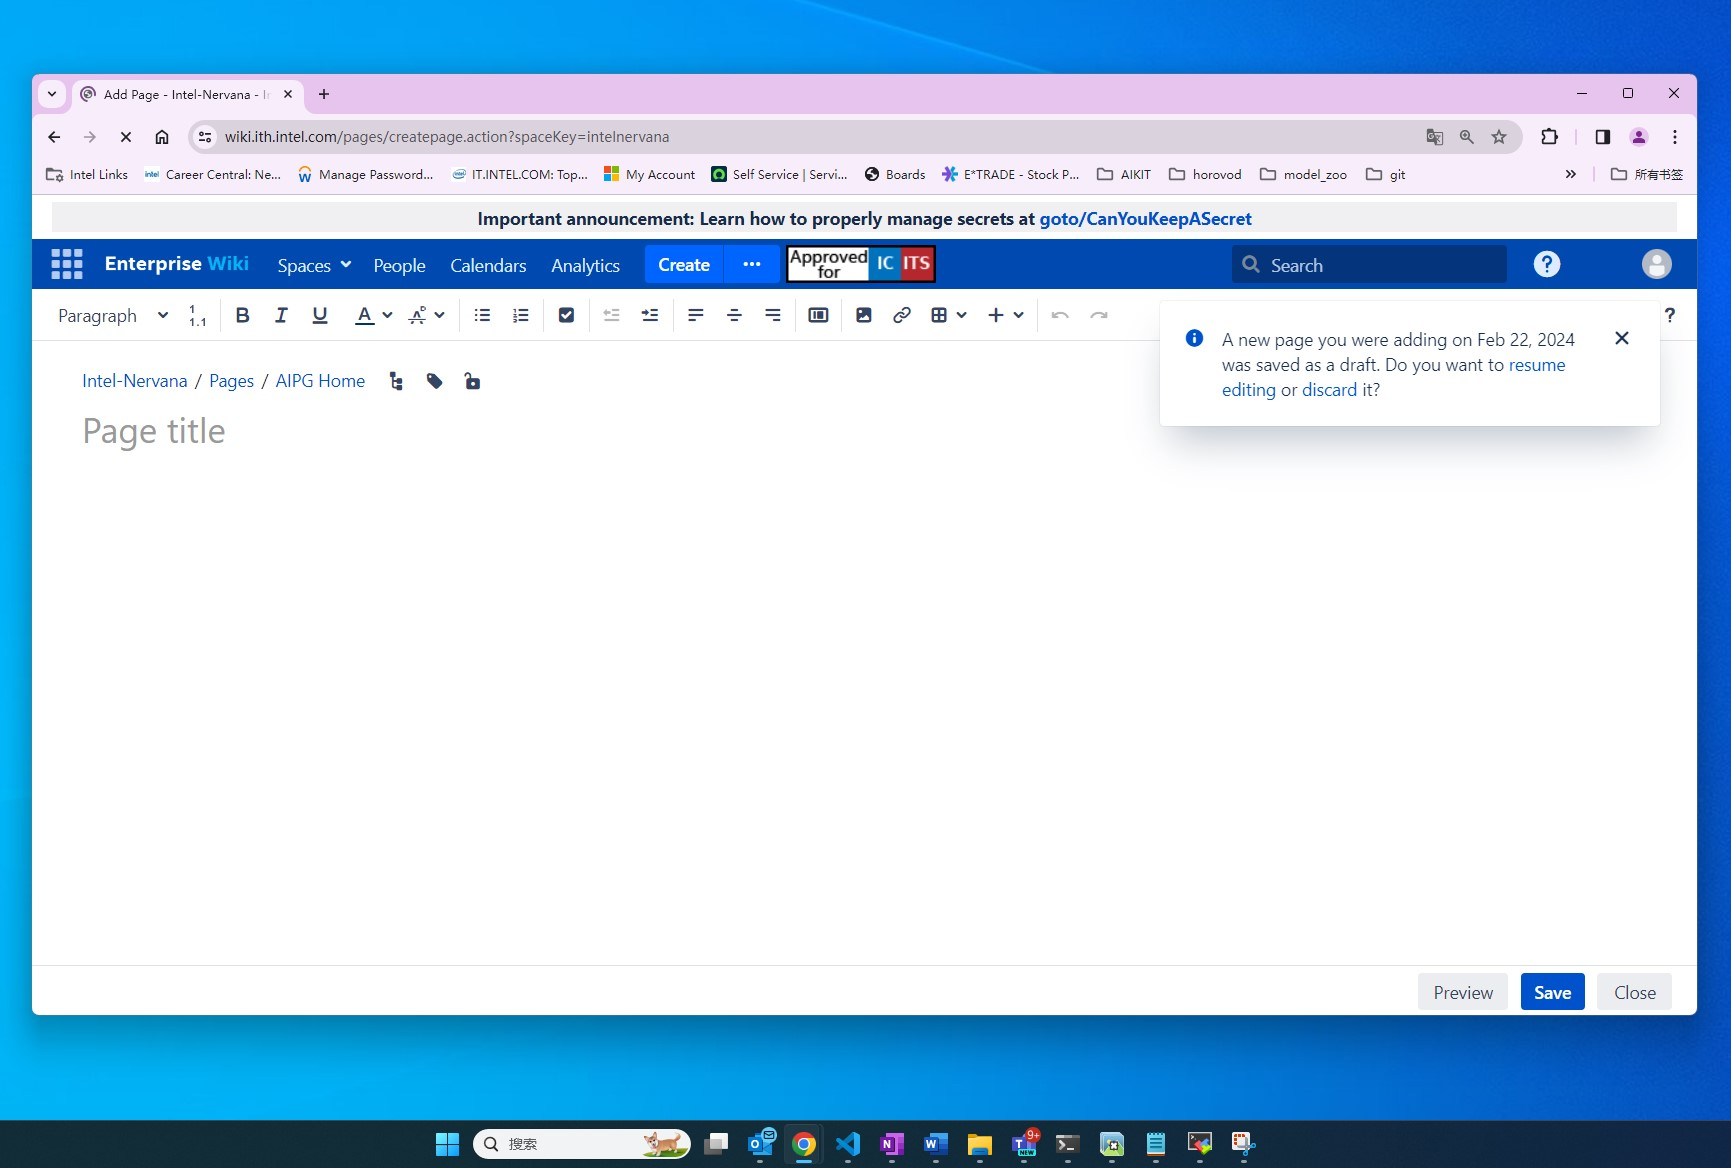button_create: (645, 243, 728, 285)
search_box: (1231, 238, 1509, 284), (470, 1128, 691, 1158)
start_bar: (434, 1126, 462, 1159)
